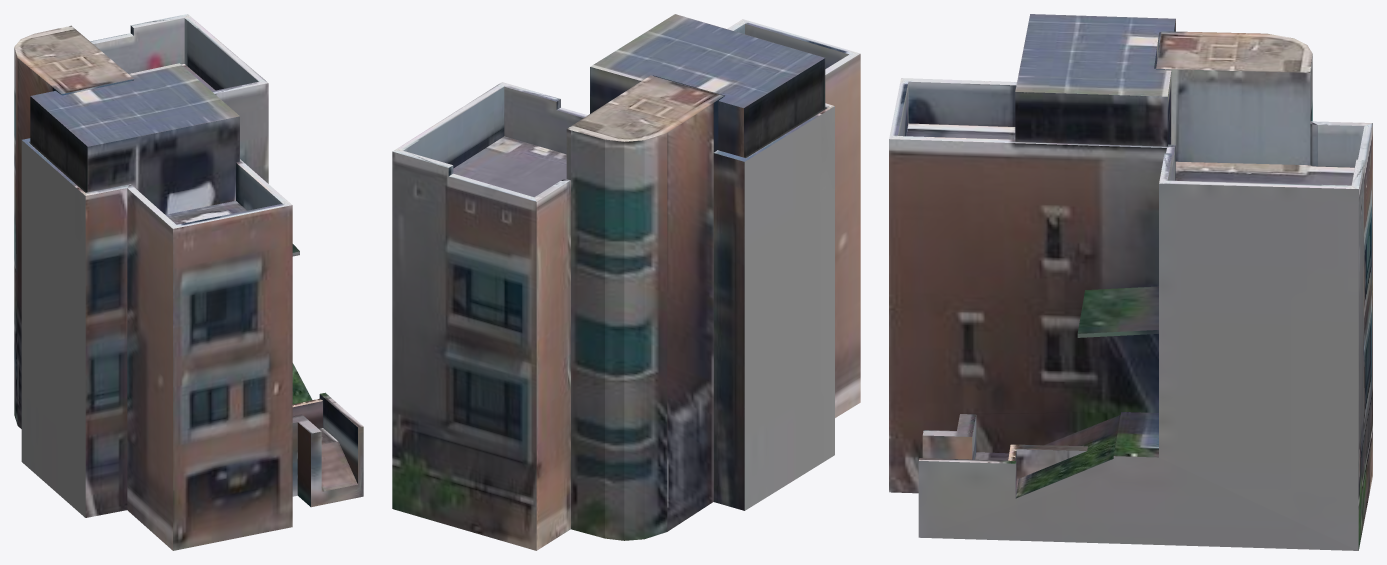
3 views of the same model, side by side, from view 1: azimuth 30°, elevation 25°; view 2: azimuth 150°, elevation 25°; view 3: azimuth 270°, elevation 25° (orthographic). The views are drawn at different scales.
Parts seen in each view (by area): view 1: B280274041601063A0; view 2: B280274041601063A0; view 3: B280274041601063A0.
Boxes of the visible parts, x1,y1,x2,y2 form: B280274041601063A0: [14, 14, 363, 550]; B280274041601063A0: [392, 14, 860, 550]; B280274041601063A0: [889, 14, 1372, 550].
Bounding box in the file's own units: 8.77 × 12.08 × 13.11.
Materials: 1 (1 with a texture image).
